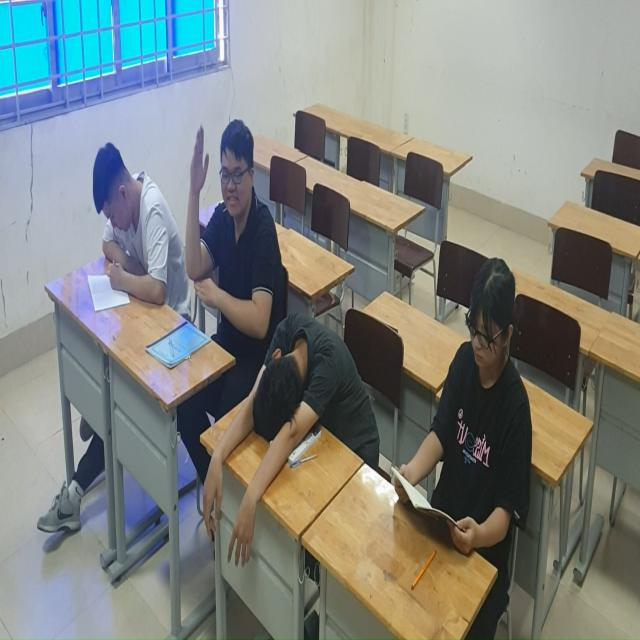raise_hand: (176, 99, 285, 401)
read: (382, 244, 551, 584), (75, 126, 177, 322)
sleep: (200, 313, 376, 561)
